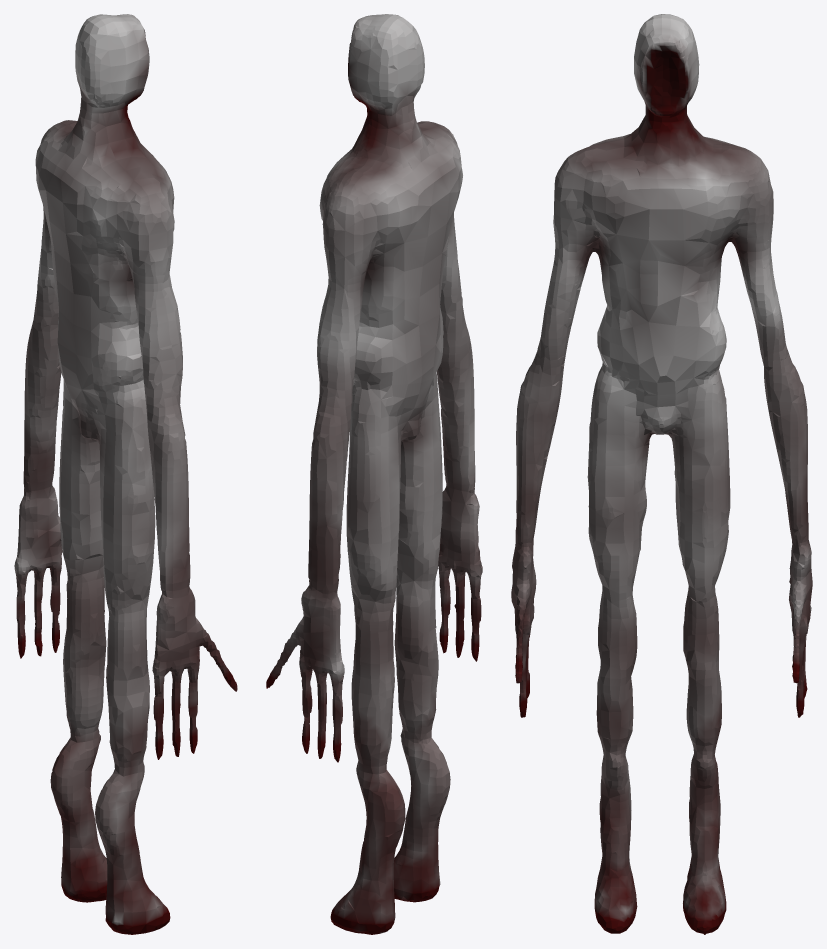
The model's file is SDFTRMonster0001.fbx.
The picture shows the model from 3 angles, left to right: view 1: azimuth 30°, elevation 25°; view 2: azimuth 150°, elevation 25°; view 3: azimuth 270°, elevation 25°; orthographic projection.
Visible parts, largest first — view 1: Cube.001; view 2: Cube.001; view 3: Cube.001.
Part boxes in pixels (bbox=[...]): Cube.001: bbox=[14, 14, 237, 934]; Cube.001: bbox=[266, 14, 482, 934]; Cube.001: bbox=[511, 14, 812, 934].
Bounding box in the file's own units: 387 × 3036 × 919.
